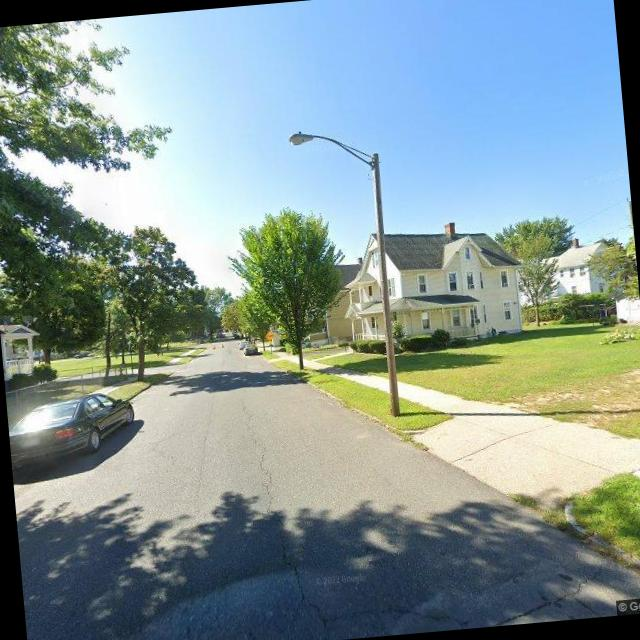pothole: (242, 404, 326, 640)
